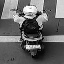motor: (13, 5, 48, 56)
